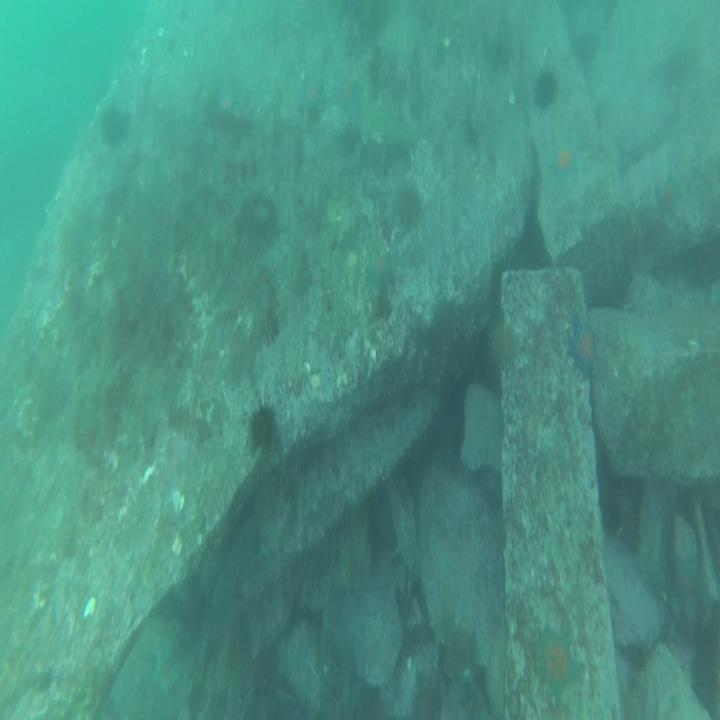echinus: (590, 212, 632, 304), (391, 182, 425, 228), (249, 397, 278, 448), (487, 323, 519, 365), (100, 106, 126, 146), (532, 68, 556, 106)
starfish: (530, 618, 588, 694), (675, 542, 699, 605), (570, 315, 596, 373), (548, 134, 580, 178), (364, 242, 394, 288)
